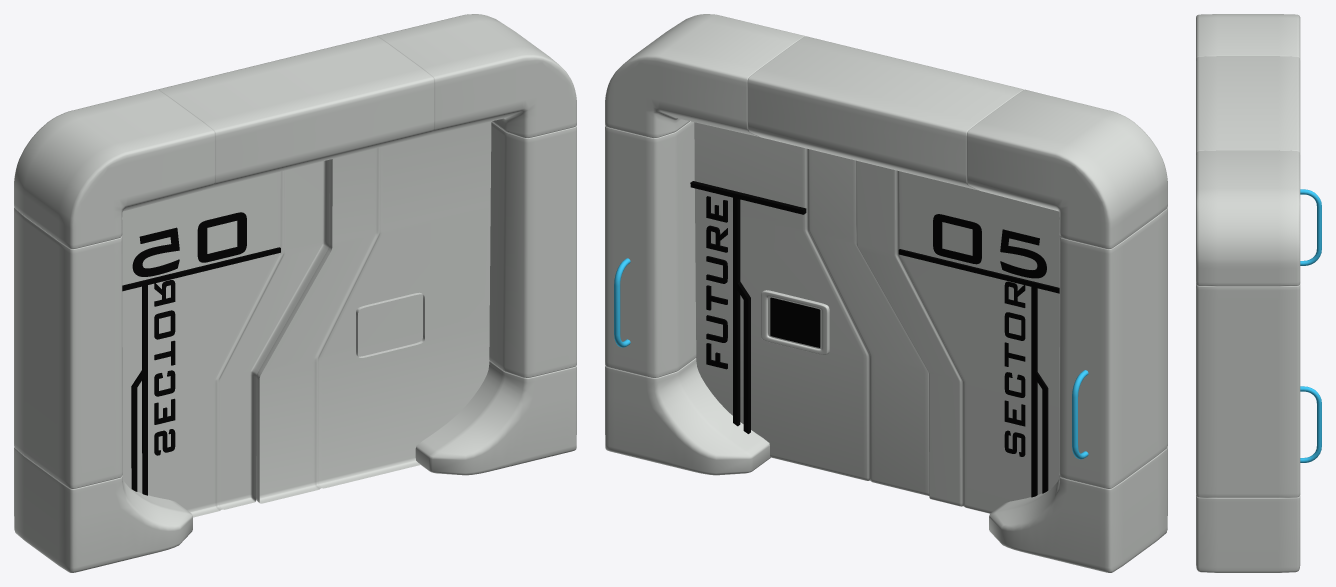
Rendered from doorSplit.fbx.
The picture shows the model from 3 angles, left to right: view 1: azimuth 30°, elevation 25°; view 2: azimuth 150°, elevation 25°; view 3: azimuth 270°, elevation 25°; orthographic projection. The views are drawn at different scales.
Parts seen in each view (by area): view 1: door_gate, R_door, L_door, polySurface15; view 2: door_gate, R_door, L_door, polySurface14, polySurface15; view 3: door_gate.
Part boxes in pixels (x1,y1,x2,y2): door_gate: (14, 14, 576, 572); R_door: (256, 121, 491, 503); L_door: (122, 159, 329, 517); polySurface15: (122, 212, 280, 495); door_gate: (605, 14, 1167, 572); R_door: (694, 122, 929, 495); L_door: (856, 160, 1059, 513); polySurface14: (690, 181, 829, 433); polySurface15: (898, 214, 1059, 497); door_gate: (1196, 14, 1321, 572).
Size of the model in its own units: 658 by 507 by 160.
